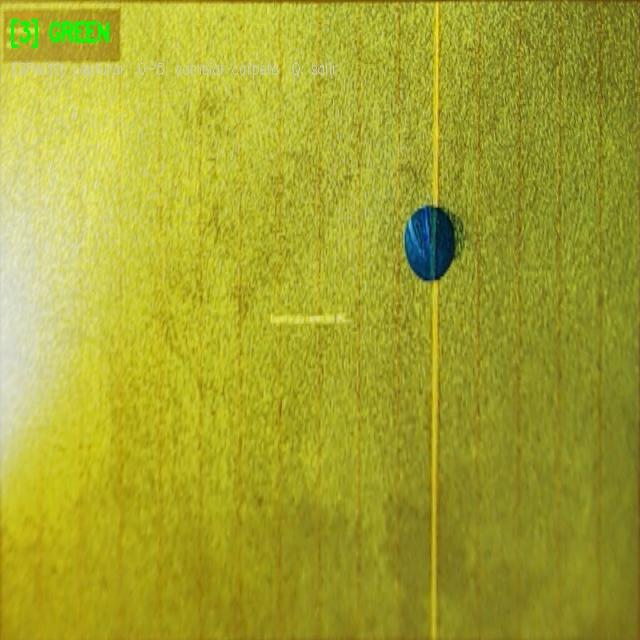green: (404, 202, 456, 280)
